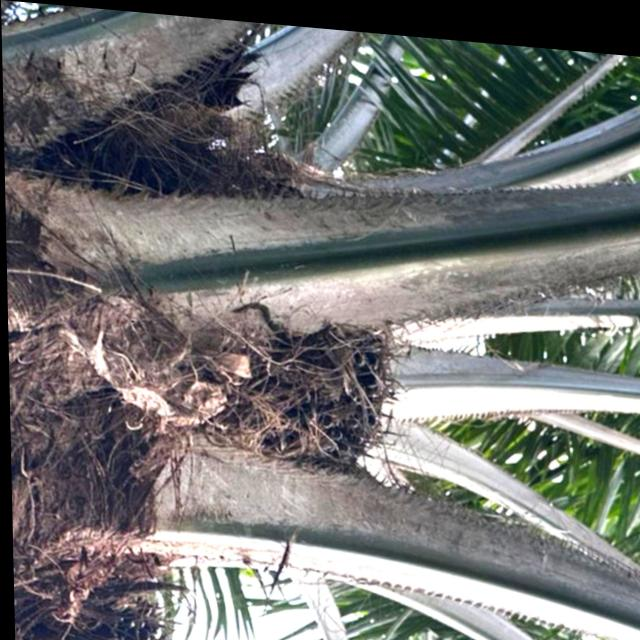unripe: (157, 289, 406, 494)
